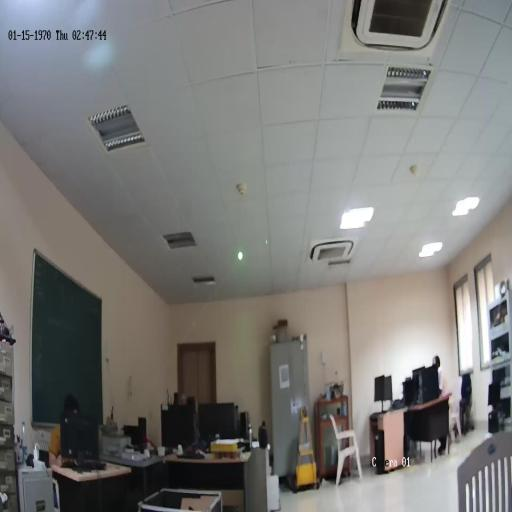laser: (237, 249, 244, 263)
